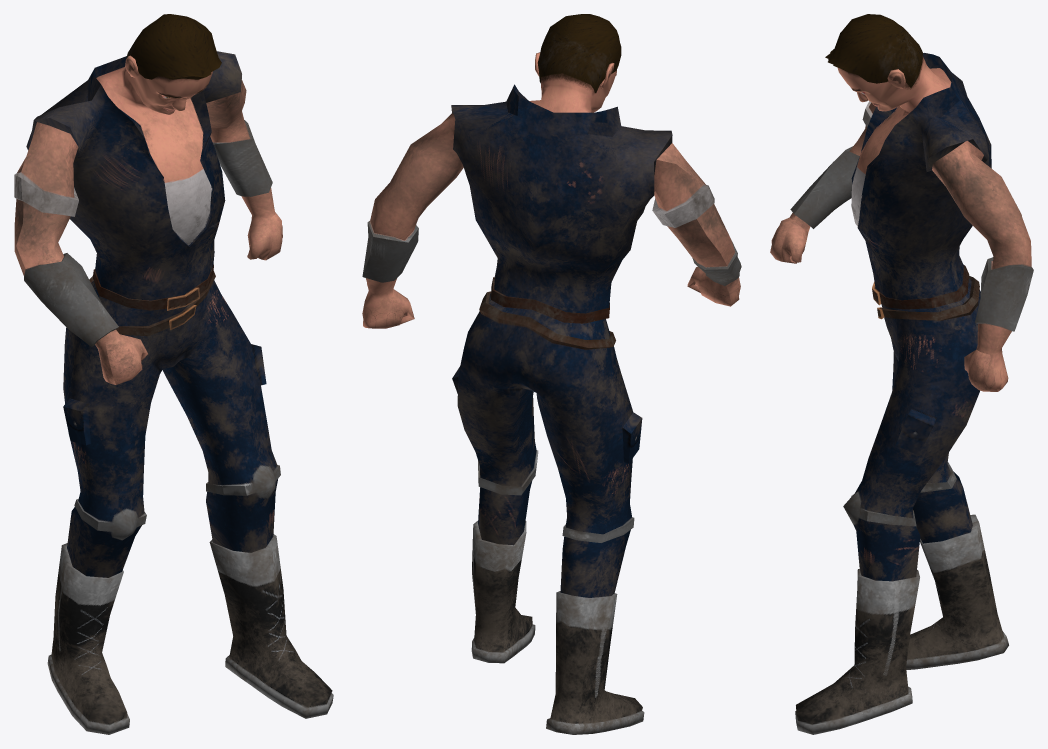
The model's file is Anim_coger_objeto_jugador.0035.obj.
3 renders of one model, left to right at view 1: azimuth 30°, elevation 25°; view 2: azimuth 150°, elevation 25°; view 3: azimuth 270°, elevation 25°, orthographic. The views are drawn at different scales.
Parts seen in each view (by area): view 1: polySurface1; view 2: polySurface1; view 3: polySurface1.
Part boxes in pixels (x1,y1,x2,y2): polySurface1: (14, 14, 333, 734); polySurface1: (362, 14, 741, 734); polySurface1: (770, 14, 1033, 734).
Bounding box in the file's own units: 4.53 × 9.46 × 3.36.
